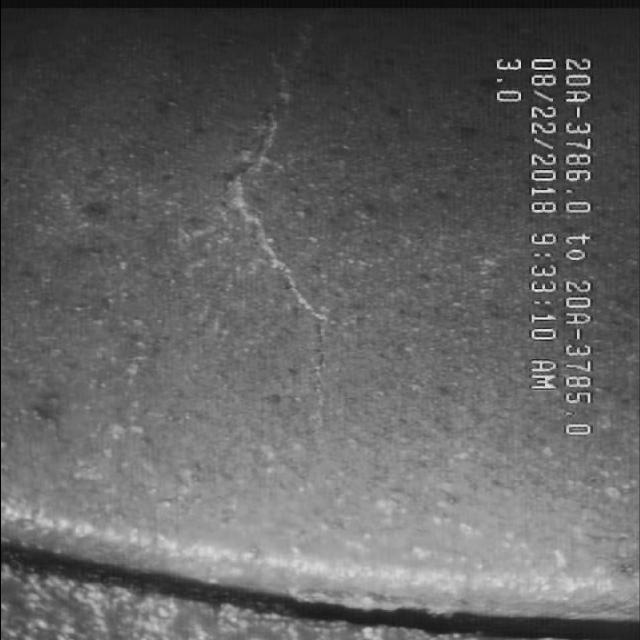Crack: (204, 37, 372, 416)
